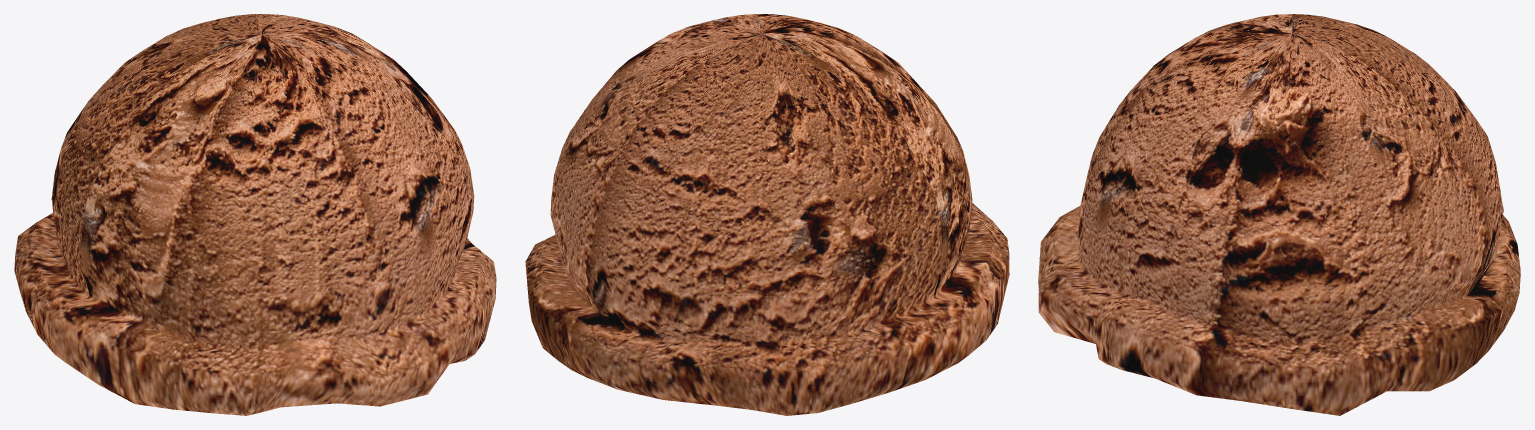
The model's file is scoop-chocolate.gltf.
3 renders of one model, left to right at view 1: azimuth 30°, elevation 25°; view 2: azimuth 150°, elevation 25°; view 3: azimuth 270°, elevation 25°, orthographic. The views are drawn at different scales.
Parts seen in each view (by area): view 1: Scoop; view 2: Scoop; view 3: Scoop.
Boxes of the visible parts, x1=… form: Scoop: x1=14, y1=14, x2=496, y2=415; Scoop: x1=525, y1=14, x2=1009, y2=415; Scoop: x1=1038, y1=14, x2=1520, y2=415.
Size of the model in its own units: 1.33 by 0.9831 by 1.38.
1 material, 1 textured.
